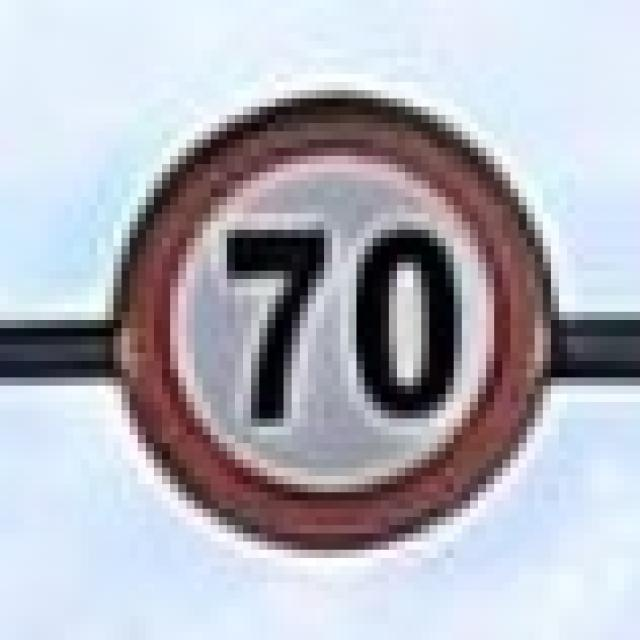Speed Limit -70-: (221, 221, 464, 434)
